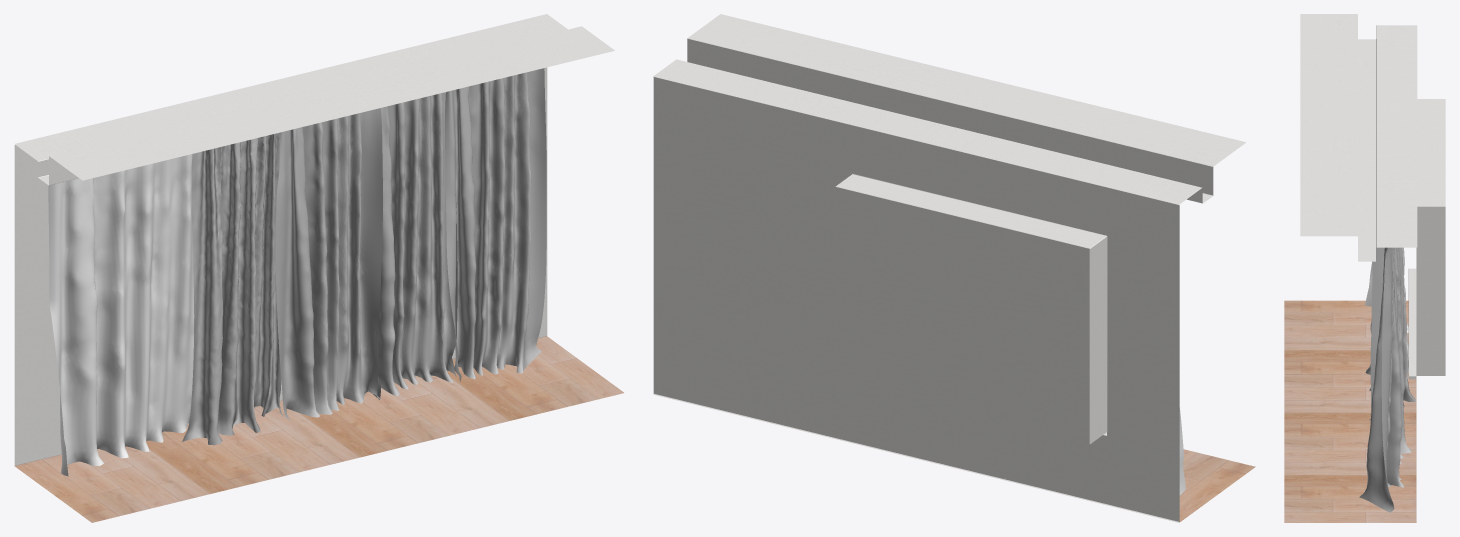
Rendered from Modern_Curtains.fbx.
3 views of the same model, side by side, from view 1: azimuth 30°, elevation 25°; view 2: azimuth 150°, elevation 25°; view 3: azimuth 270°, elevation 25° (orthographic). The views are drawn at different scales.
Visible parts, largest first — view 1: Curtains, Wall, Tulle; view 2: Wall; view 3: Wall, Curtains, Tulle.
Boxes of the visible parts, x1,y1,x2,y2 form: Curtains: (182, 68, 546, 445); Wall: (14, 14, 623, 522); Tulle: (48, 154, 194, 476); Wall: (653, 14, 1255, 522); Wall: (1284, 14, 1445, 522); Curtains: (1359, 247, 1415, 512); Tulle: (1365, 247, 1408, 372).
Bounding box in the file's own units: 431 × 259 × 132.
